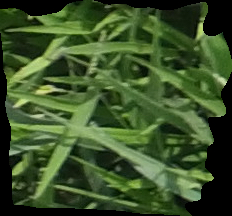grass: (1, 1, 231, 214)
